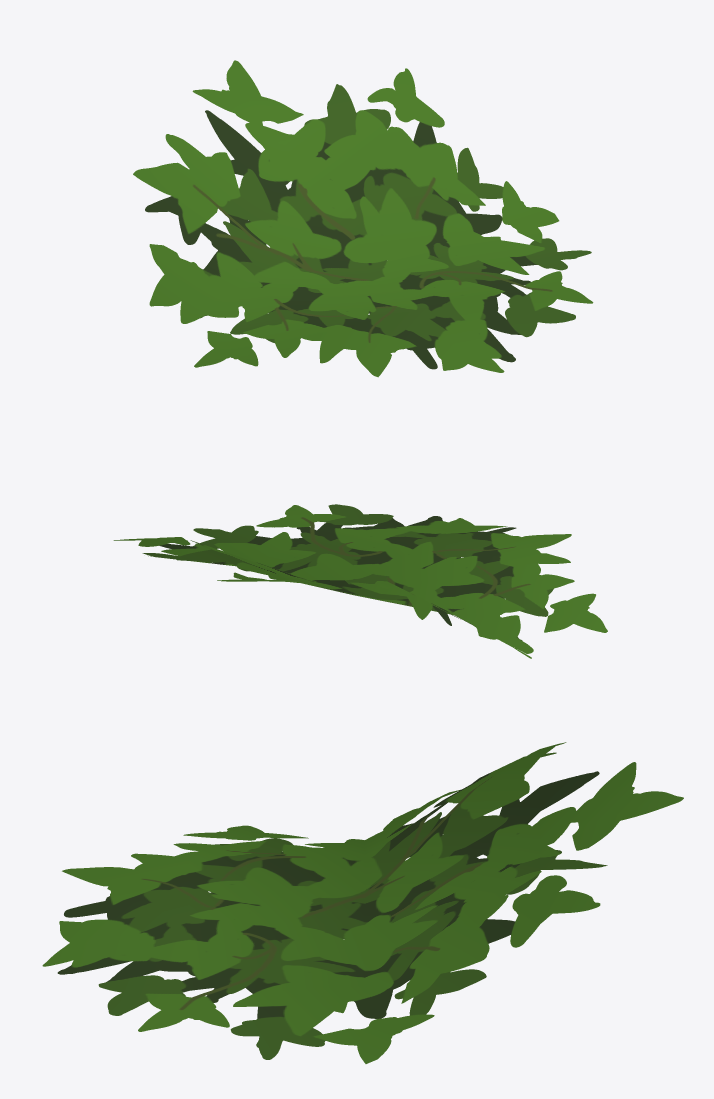
The model's file is SM_Vine02.FBX.
The picture shows the model from 3 angles, top to bottom: view 1: azimuth 30°, elevation 25°; view 2: azimuth 150°, elevation 25°; view 3: azimuth 270°, elevation 25°; orthographic projection. The views are drawn at different scales.
Parts seen in each view (by area): view 1: Plane001; view 2: Plane001; view 3: Plane001.
Part boxes in pixels (x1,y1,x2,y2): Plane001: (133, 60, 593, 377); Plane001: (113, 504, 607, 658); Plane001: (42, 742, 683, 1063).
Bounding box in the file's own units: 67.25 × 23.8 × 77.37.
1 material, 1 textured.
